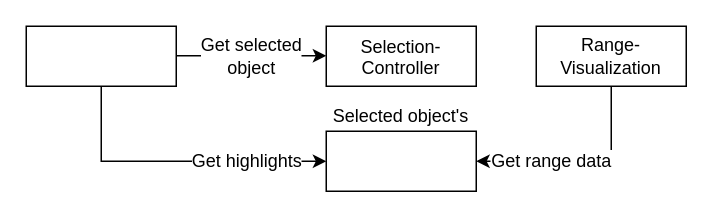
Image size: 713x218. Some labels were removed from this diagram. The box of each missing label's shape, as (x1, y1, x2, y2) in pixels:
Highlight-Controller: (25, 25, 176, 86)
Highlight-Provider: (325, 130, 476, 191)
